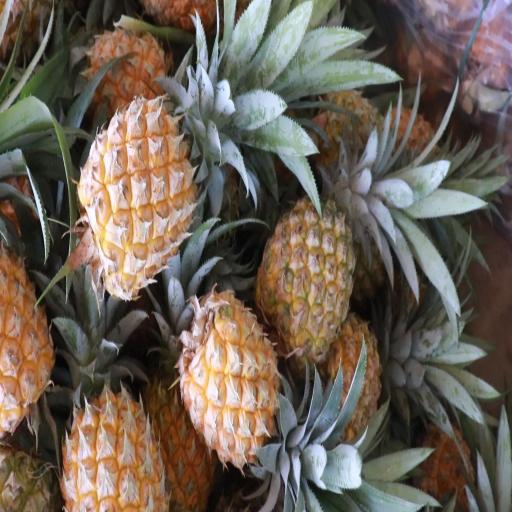------------------------------: (262, 195, 354, 354)
Pineapple - v8 v1: (82, 95, 193, 287), (181, 298, 279, 462), (64, 361, 163, 512), (144, 353, 216, 503), (88, 28, 171, 110)
